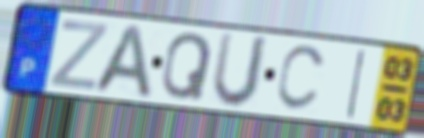A: (89, 22, 154, 102)
C: (273, 44, 329, 115)
I: (343, 46, 369, 121)
Q: (159, 30, 215, 103)
U: (208, 30, 272, 112)
Z: (47, 17, 111, 93)
